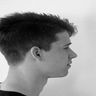ear: (26, 40, 50, 67)
